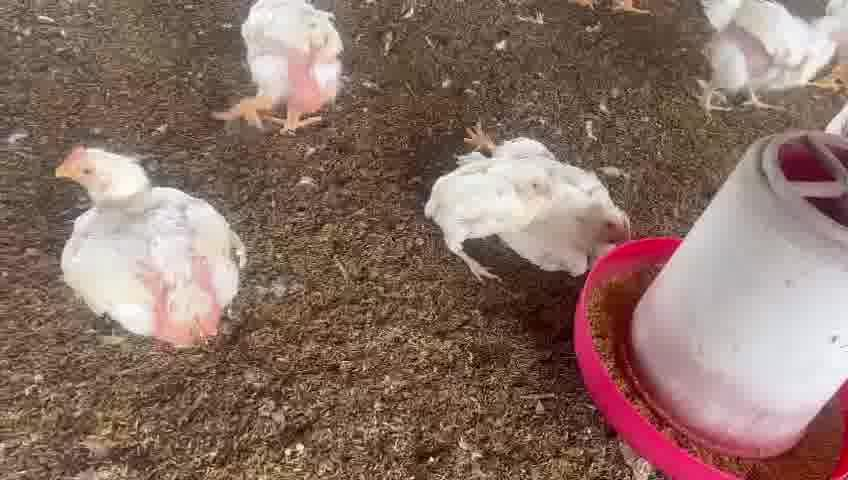AbNormal: (462, 109, 640, 261), (429, 161, 555, 295)
Normal: (49, 156, 236, 349), (229, 0, 373, 160), (695, 0, 848, 114)
